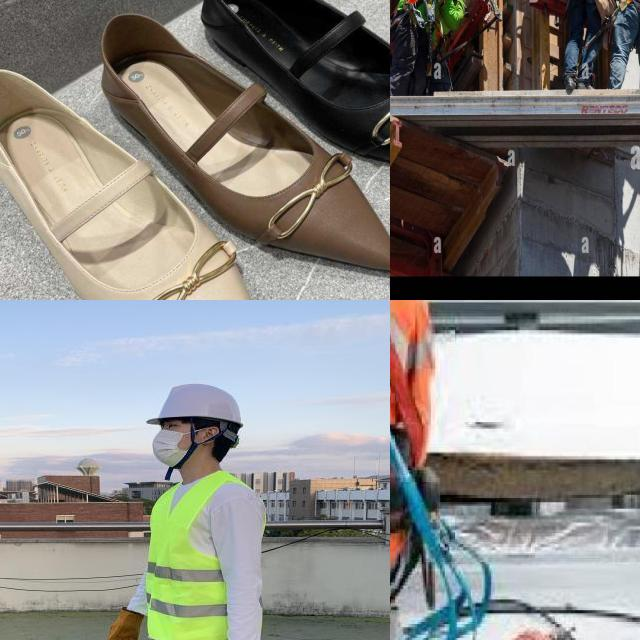Harness: (390, 0, 457, 38)
No_Ear-Protection: (196, 425, 226, 447)
Sandals: (84, 0, 390, 290), (0, 56, 283, 300), (190, 0, 390, 195)
head_helmet: (145, 383, 244, 430)
person: (104, 374, 309, 640)
vest: (147, 471, 265, 640)
